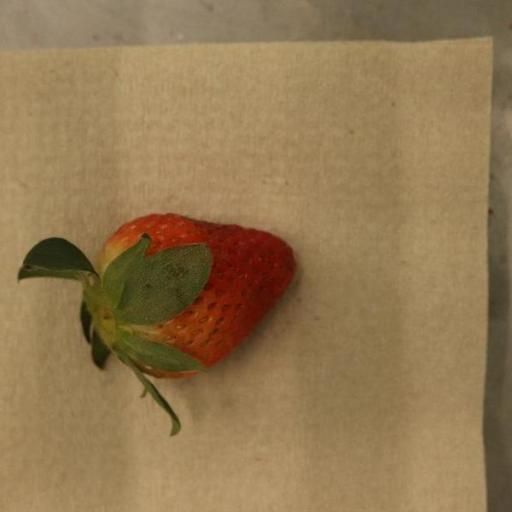Strawberry: (16, 213, 298, 437)
